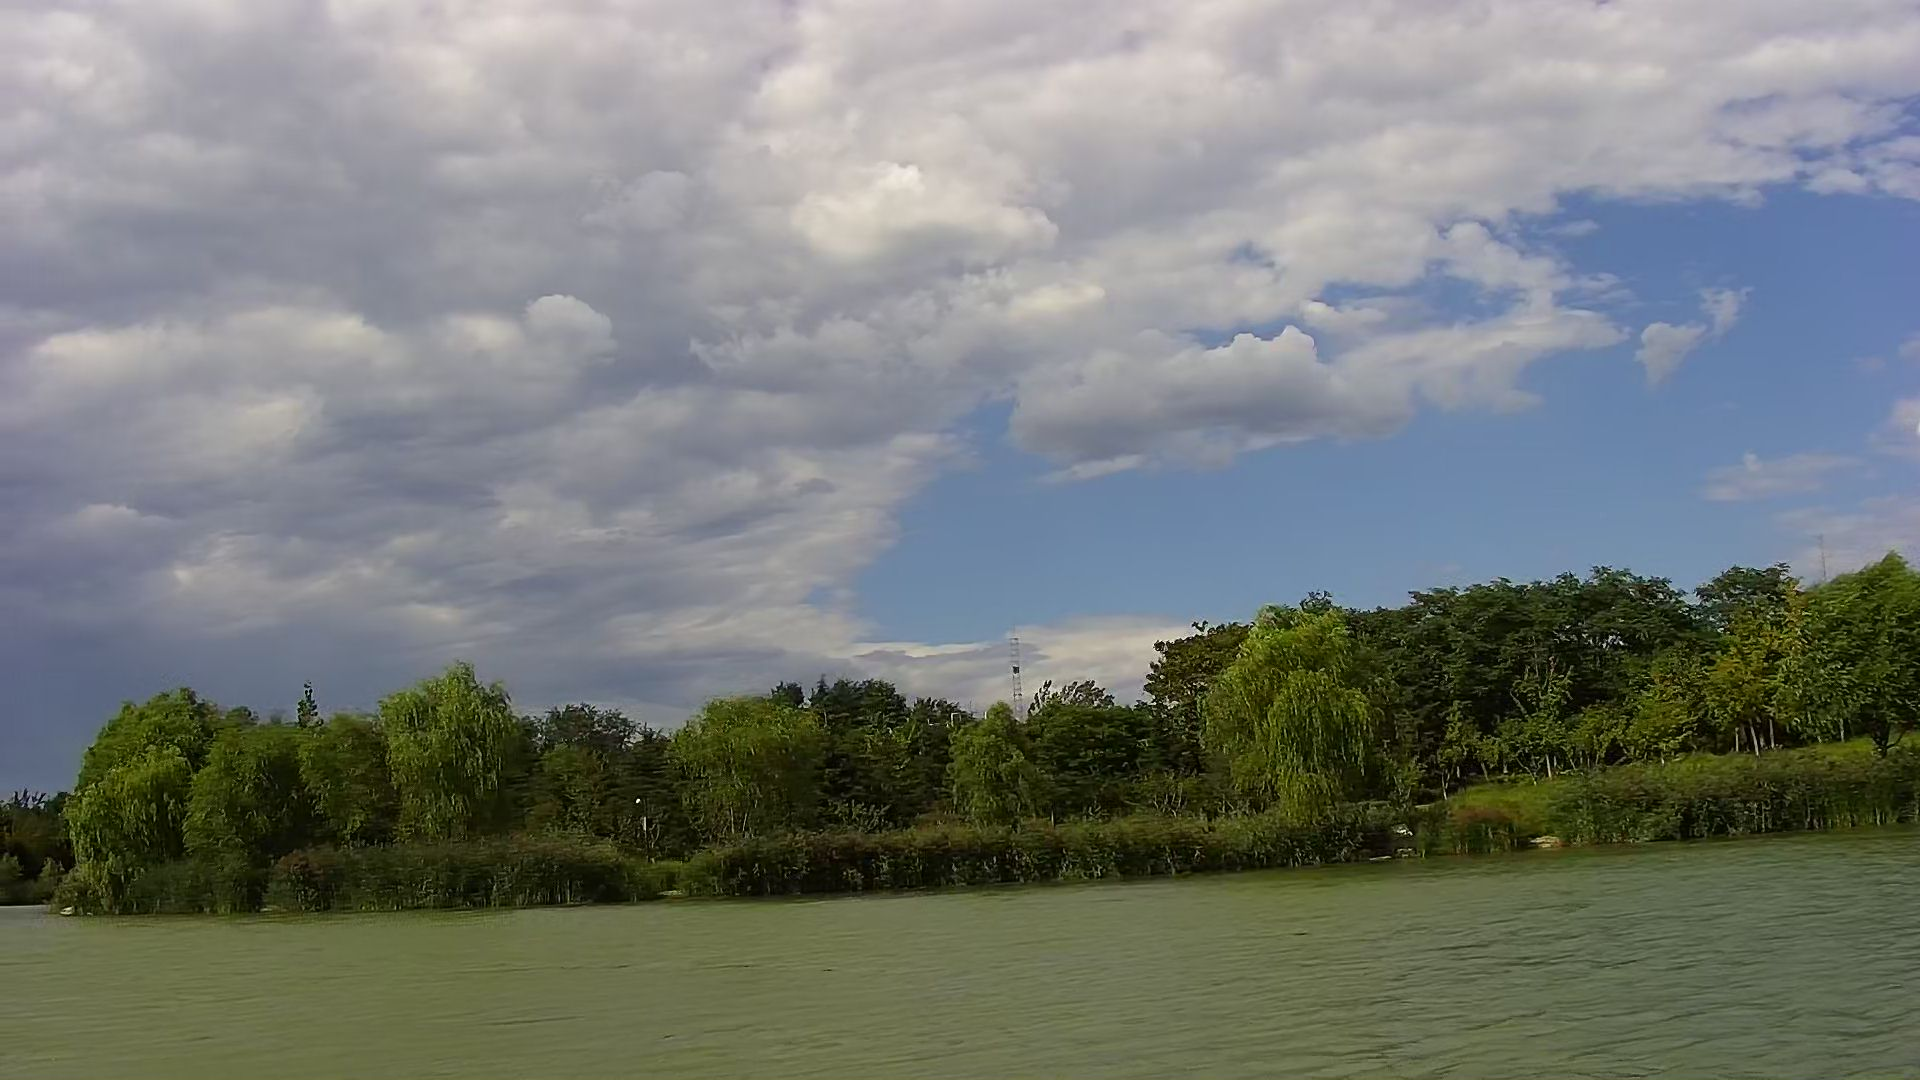rock: (1526, 831, 1563, 855)
